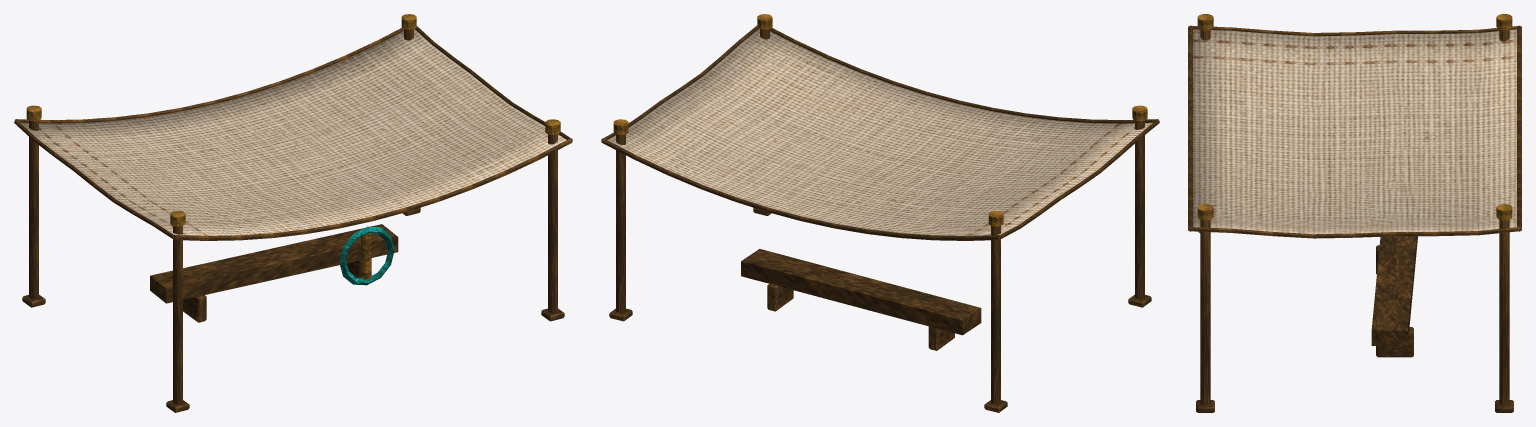
File: mesa-civilian-shade.glb
3 renders of one model, left to right at view 1: azimuth 30°, elevation 25°; view 2: azimuth 150°, elevation 25°; view 3: azimuth 270°, elevation 25°, orthographic. The views are drawn at different scales.
Parts seen in each view (by area): view 1: mesa-civilian-shade; view 2: mesa-civilian-shade; view 3: mesa-civilian-shade.
Part boxes in pixels (left/top/right/bottom): mesa-civilian-shade: left=14, top=14, right=572, bottom=412; mesa-civilian-shade: left=601, top=14, right=1159, bottom=412; mesa-civilian-shade: left=1188, top=14, right=1521, bottom=412.
Size of the model in its own units: 9.44 by 4.39 by 6.56.
Materials: 2 (2 with a texture image).
